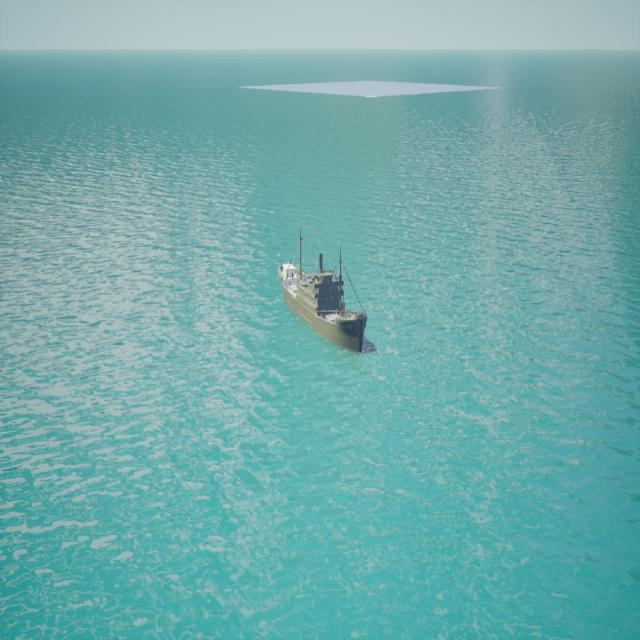fishing ship: (279, 237, 372, 355)
